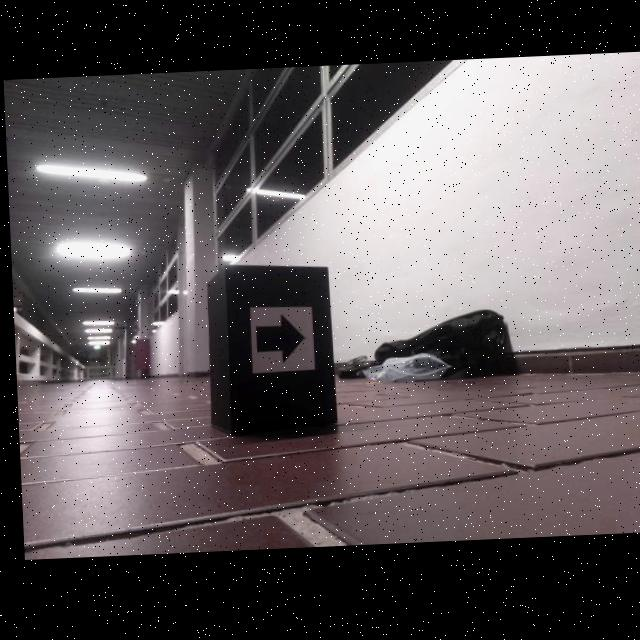RIGHT: (253, 318, 301, 367)
